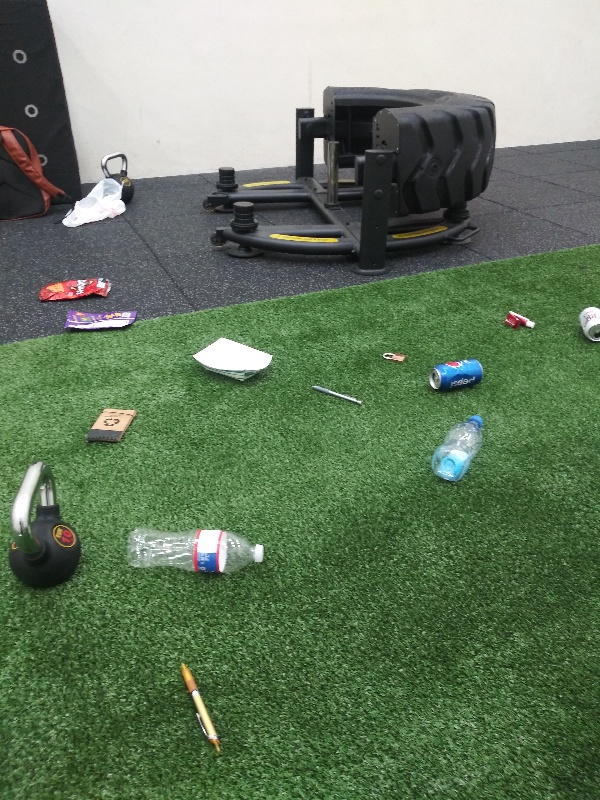bag: (34, 276, 113, 302), (62, 306, 141, 331)
bottle: (124, 525, 270, 578), (428, 413, 490, 485)
can: (428, 359, 491, 399), (576, 304, 600, 348)
plate: (188, 334, 278, 385)
